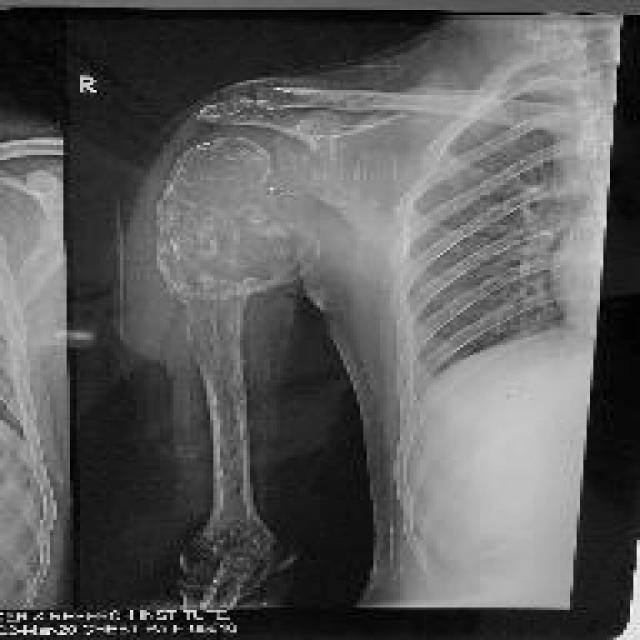bone-cancer: (157, 136, 322, 301)
